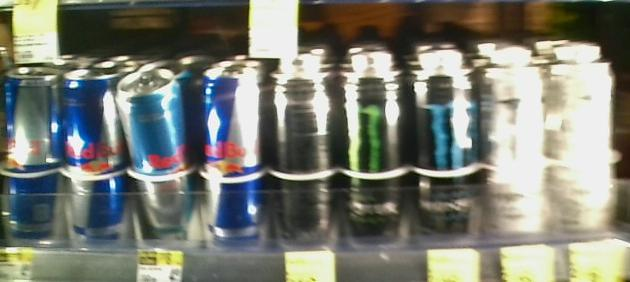bottle: (411, 41, 483, 243), (119, 63, 195, 246), (269, 47, 337, 244), (339, 45, 405, 244), (485, 41, 548, 237), (553, 40, 616, 231), (200, 62, 265, 244), (59, 62, 117, 247), (4, 64, 55, 247)
